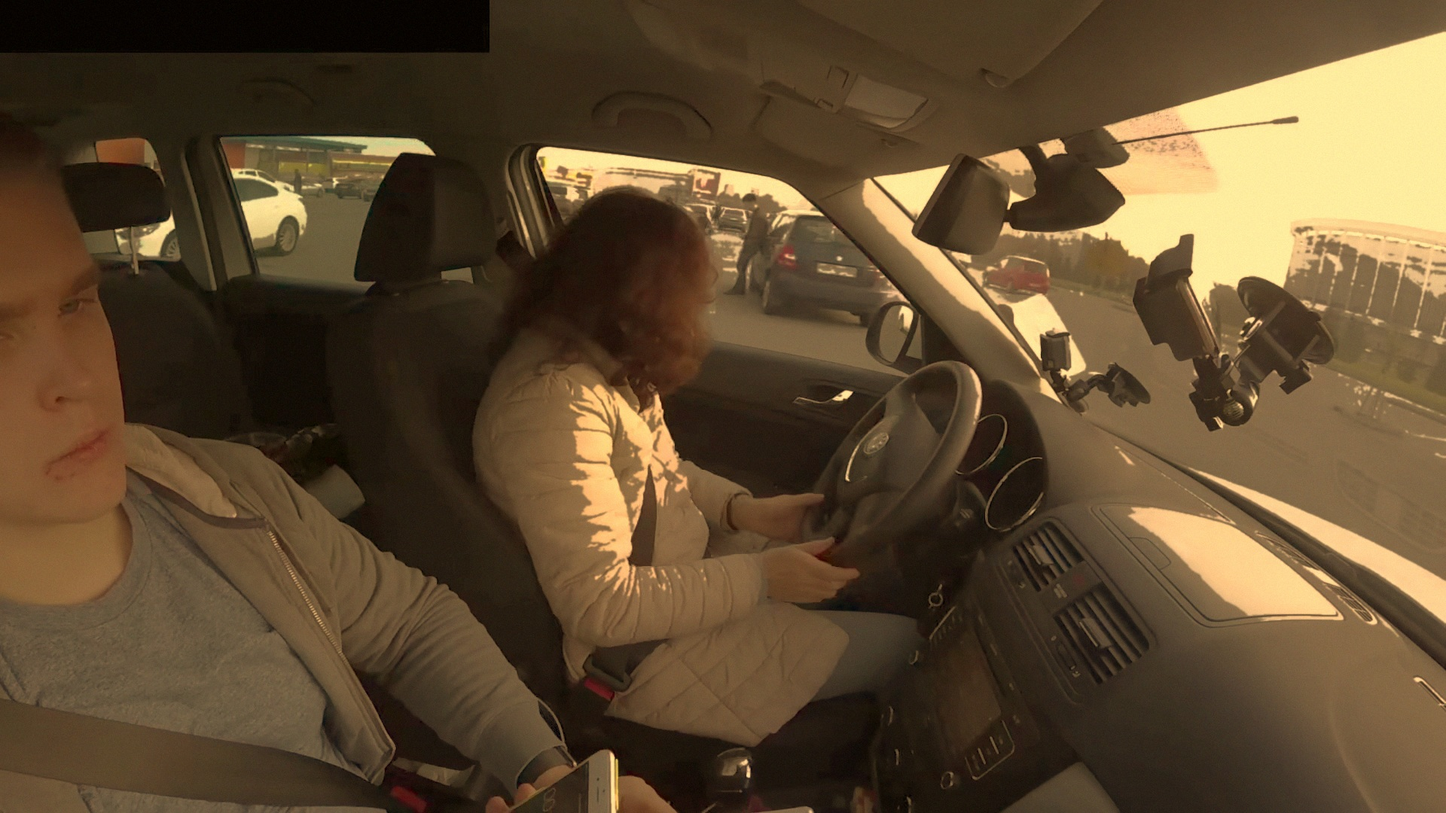pedestrian: (438, 111, 748, 619)
